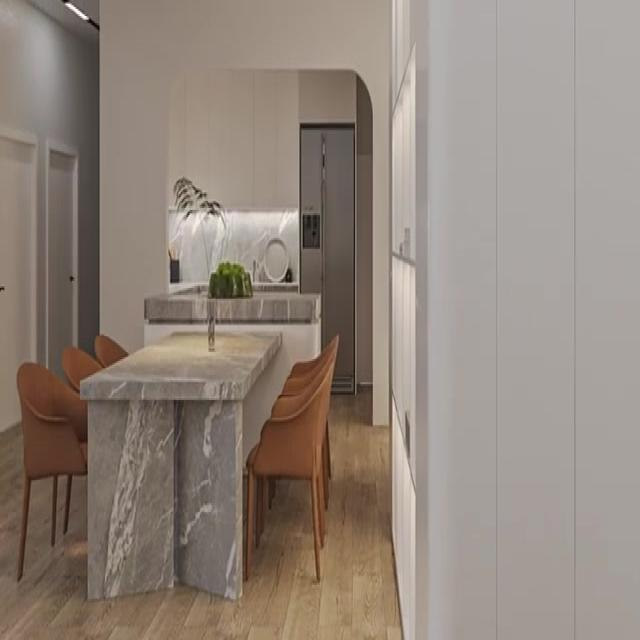obstacle: (79, 327, 281, 601), (245, 358, 334, 582), (16, 360, 90, 580), (299, 123, 355, 394)
